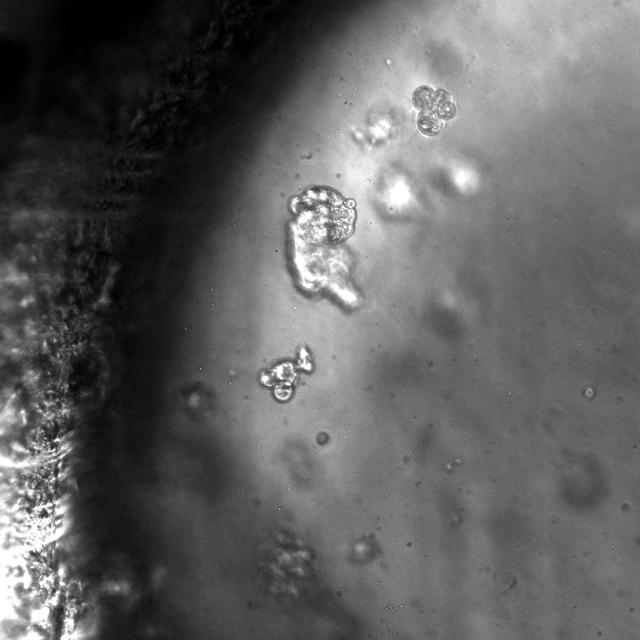organoid: (288, 185, 361, 309), (259, 529, 314, 599), (260, 345, 314, 402), (411, 85, 456, 137), (316, 431, 330, 445)
